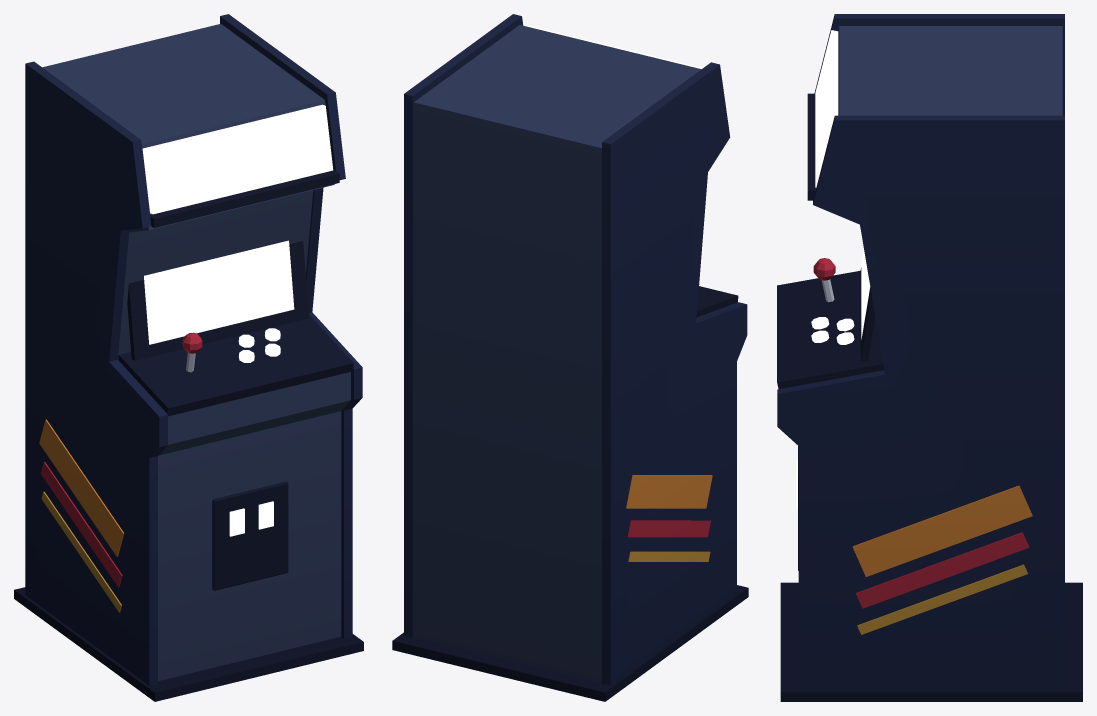
File: arcade.glb
The picture shows the model from 3 angles, left to right: view 1: azimuth 30°, elevation 25°; view 2: azimuth 150°, elevation 25°; view 3: azimuth 270°, elevation 25°; orthographic projection. The views are drawn at different scales.
Visible parts, largest first — view 1: Arcade, Arcade_Screen; view 2: Arcade; view 3: Arcade, Arcade_Screen.
Boxes of the visible parts, left/top/right/bottom form: Arcade: left=14, top=14, right=363, bottom=701; Arcade_Screen: left=144, top=240, right=294, bottom=344; Arcade: left=392, top=14, right=748, bottom=701; Arcade: left=777, top=14, right=1082, bottom=701; Arcade_Screen: left=861, top=250, right=870, bottom=339.
Bounding box in the file's own units: 0.72 × 1.78 × 0.8501.
